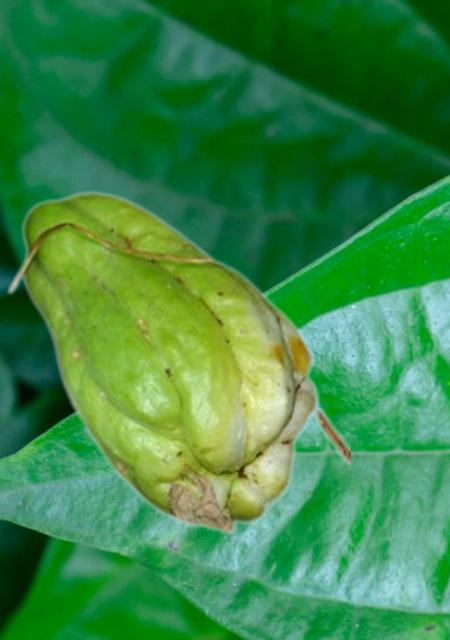sayote: (5, 190, 349, 534)
